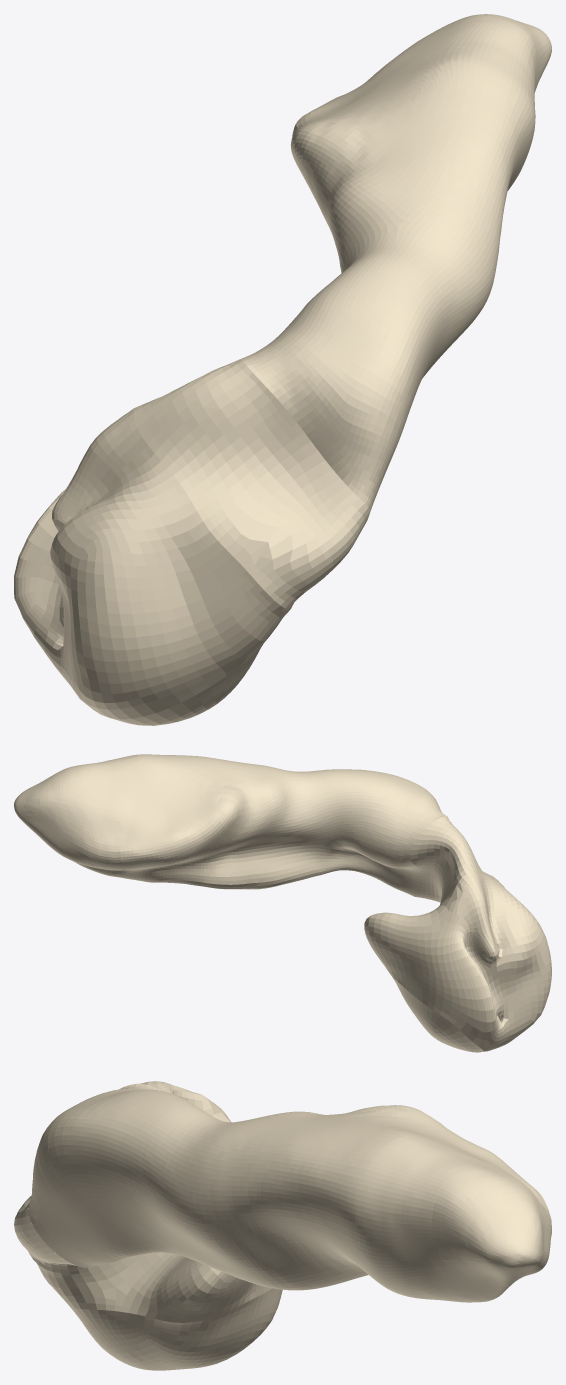
File: 3d-vh-m-pancreas.glb
3 views of the same model, one above another, from view 1: azimuth 30°, elevation 25°; view 2: azimuth 150°, elevation 25°; view 3: azimuth 270°, elevation 25° (orthographic). The views are drawn at different scales.
Visible parts, largest first — view 1: VH_M_head_of_pancreas, VH_M_body_of_pancreas, VH_M_tail_of_pancreas, VH_M_neck_of_pancreas, VH_M_uncinate_process_of_the_pancreas; view 2: VH_M_tail_of_pancreas, VH_M_head_of_pancreas, VH_M_body_of_pancreas, VH_M_neck_of_pancreas, VH_M_uncinate_process_of_the_pancreas; view 3: VH_M_tail_of_pancreas, VH_M_body_of_pancreas, VH_M_head_of_pancreas, VH_M_uncinate_process_of_the_pancreas, VH_M_neck_of_pancreas.
Boxes of the visible parts, bbox=[...] form: VH_M_head_of_pancreas: bbox=[14, 388, 333, 719]; VH_M_body_of_pancreas: bbox=[241, 177, 500, 515]; VH_M_tail_of_pancreas: bbox=[290, 14, 551, 235]; VH_M_neck_of_pancreas: bbox=[178, 359, 369, 569]; VH_M_uncinate_process_of_the_pancreas: bbox=[110, 645, 262, 725]; VH_M_tail_of_pancreas: bbox=[14, 754, 271, 889]; VH_M_head_of_pancreas: bbox=[364, 843, 551, 1051]; VH_M_body_of_pancreas: bbox=[242, 762, 446, 896]; VH_M_neck_of_pancreas: bbox=[410, 816, 467, 902]; VH_M_uncinate_process_of_the_pancreas: bbox=[391, 975, 484, 1052]; VH_M_tail_of_pancreas: bbox=[232, 1105, 551, 1302]; VH_M_body_of_pancreas: bbox=[28, 1083, 299, 1289]; VH_M_head_of_pancreas: bbox=[14, 1086, 271, 1322]; VH_M_uncinate_process_of_the_pancreas: bbox=[70, 1288, 282, 1370]; VH_M_neck_of_pancreas: bbox=[14, 1081, 180, 1265].
Size of the model in its own units: 0.1114 by 0.072 by 0.0836.
